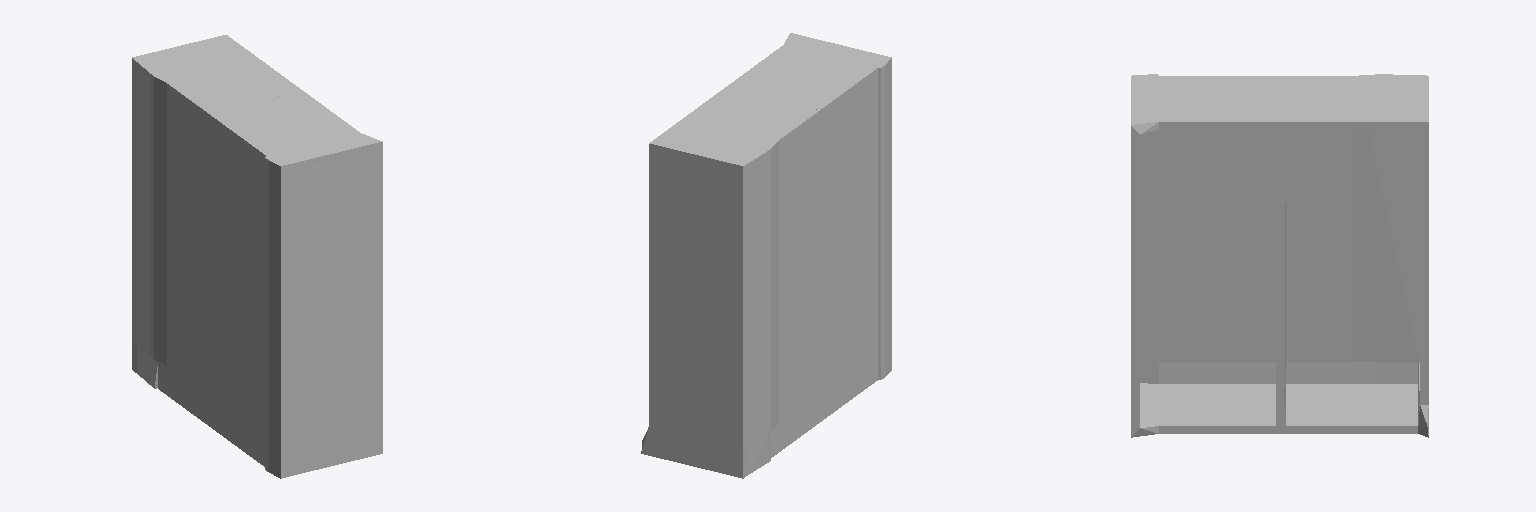
The model's file is none_motion_vhacd.obj.
3 renders of one model, left to right at view 1: azimuth 30°, elevation 25°; view 2: azimuth 150°, elevation 25°; view 3: azimuth 270°, elevation 25°, orthographic.
Visible parts, largest first — view 1: convex_7, convex_4, convex_8, convex_12, convex_0, convex_1, convex_5, convex_2, convex_9, convex_13, convex_6, convex_14; view 2: convex_16, convex_4, convex_12, convex_8, convex_1, convex_5, convex_0, convex_10, convex_2, convex_13, convex_9, convex_14; view 3: convex_4, convex_8, convex_12, convex_1, convex_15, convex_5, convex_3, convex_0, convex_2, convex_13, convex_7, convex_16 (+3 smaller).
Boxes of the visible parts, x1,y1,x2,y2 form: convex_7: [290, 151, 382, 466]; convex_4: [208, 123, 264, 437]; convex_8: [167, 81, 211, 391]; convex_12: [132, 55, 174, 365]; convex_0: [265, 154, 289, 478]; convex_1: [141, 35, 296, 107]; convex_5: [208, 91, 359, 163]; convex_2: [158, 362, 264, 466]; convex_9: [276, 133, 382, 172]; convex_13: [203, 87, 302, 395]; convex_6: [290, 445, 382, 475]; convex_14: [137, 345, 157, 388]; convex_16: [649, 153, 733, 446]; convex_4: [820, 78, 877, 392]; convex_12: [734, 139, 778, 448]; convex_8: [770, 112, 814, 422]; convex_1: [649, 91, 804, 172]; convex_5: [726, 45, 877, 118]; convex_0: [869, 55, 891, 379]; convex_10: [641, 426, 748, 478]; convex_2: [770, 351, 877, 457]; convex_13: [721, 87, 819, 396]; convex_9: [784, 33, 882, 64]; convex_14: [749, 433, 770, 473]; convex_4: [1159, 130, 1275, 361]; convex_8: [1286, 76, 1357, 361]; convex_12: [1358, 74, 1428, 362]; convex_1: [1286, 80, 1428, 130]; convex_15: [1286, 384, 1417, 433]; convex_5: [1159, 76, 1275, 129]; convex_3: [1159, 384, 1275, 433]; convex_0: [1131, 74, 1158, 383]; convex_2: [1159, 362, 1375, 383]; convex_13: [1276, 76, 1285, 404]; convex_7: [1131, 135, 1139, 427]; convex_16: [1420, 131, 1428, 404].
Size of the model in its own units: 0.3519 by 1 by 0.867.